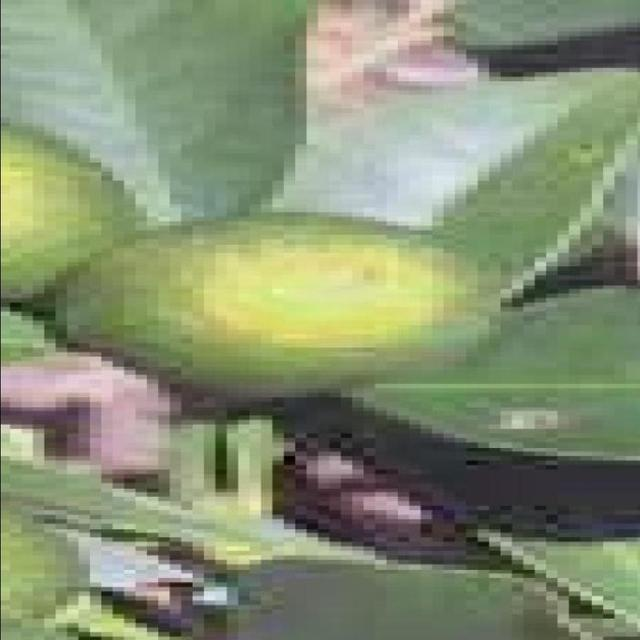Sunscald Fruit: (113, 153, 318, 226)
